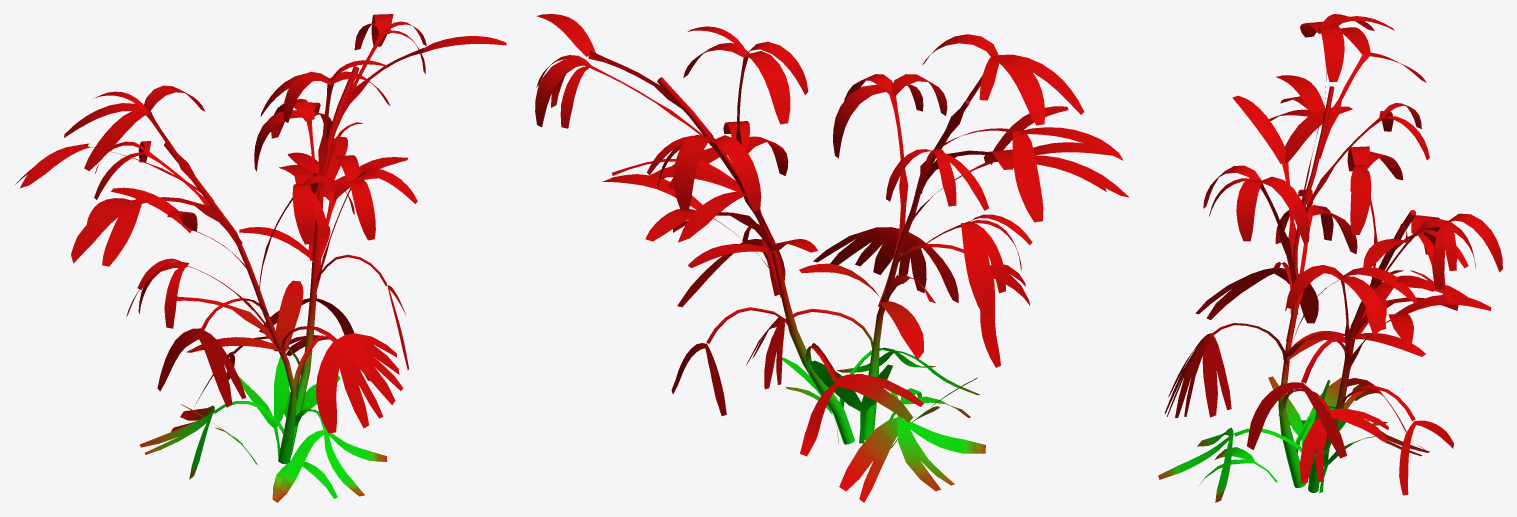
File: SM_BroadleafLadyPalm_05.FBX
3 renders of one model, left to right at view 1: azimuth 30°, elevation 25°; view 2: azimuth 150°, elevation 25°; view 3: azimuth 270°, elevation 25°, orthographic. The views are drawn at different scales.
Parts seen in each view (by area): view 1: SM_BroadleafLadyPalm_05; view 2: SM_BroadleafLadyPalm_05; view 3: SM_BroadleafLadyPalm_05.
Part boxes in pixels (x1,y1,x2,y2): SM_BroadleafLadyPalm_05: [15, 14, 506, 502]; SM_BroadleafLadyPalm_05: [535, 14, 1128, 502]; SM_BroadleafLadyPalm_05: [1158, 14, 1502, 502].
Size of the model in its own units: 64.16 by 36.73 by 47.54.
